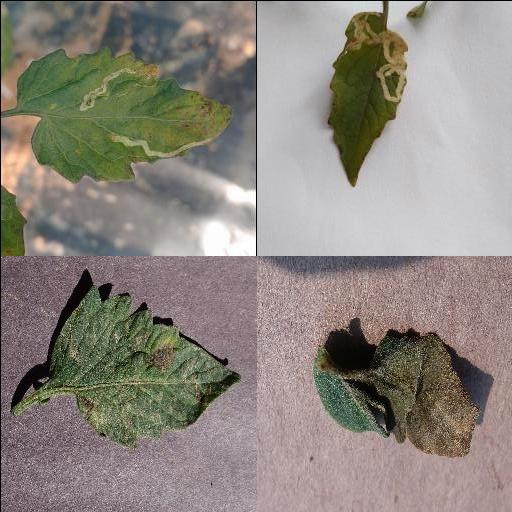Early Blight: (51, 284, 243, 446)
Late Blight: (311, 328, 479, 460)
Leaf Miner: (15, 44, 233, 186), (324, 11, 410, 185)
